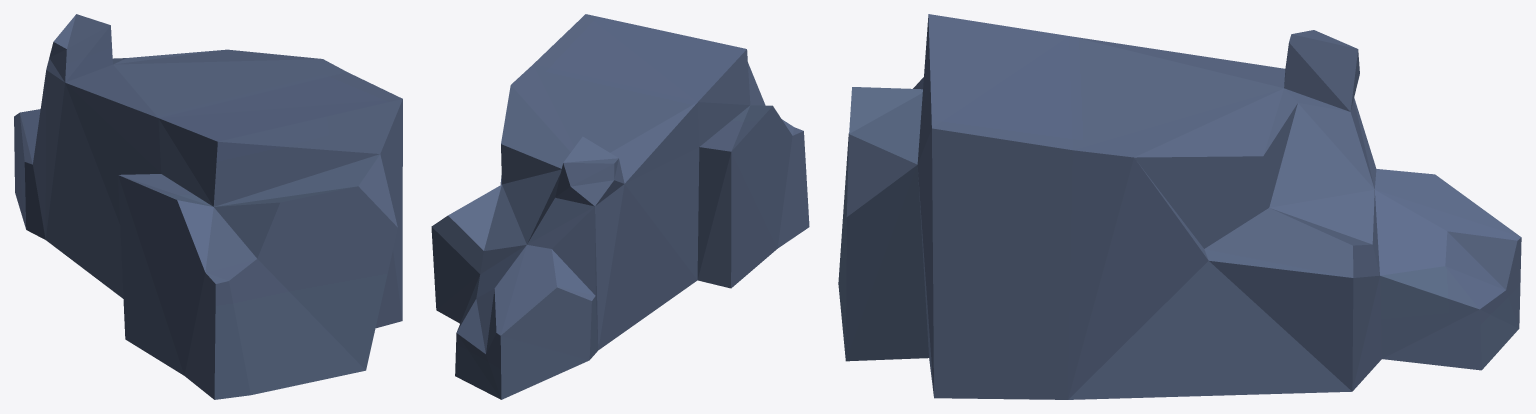
File: TreePackage.fbx_Rocks_8.fbx
3 views of the same model, side by side, from view 1: azimuth 30°, elevation 25°; view 2: azimuth 150°, elevation 25°; view 3: azimuth 270°, elevation 25° (orthographic). The views are drawn at different scales.
Parts seen in each view (by area): view 1: RockCluster.002; view 2: RockCluster.002; view 3: RockCluster.002.
Boxes of the visible parts, left/top/right/bottom form: RockCluster.002: left=14, top=14, right=402, bottom=399; RockCluster.002: left=431, top=14, right=809, bottom=399; RockCluster.002: left=838, top=14, right=1521, bottom=399.
Bounding box in the file's own units: 138 × 136 × 290.
